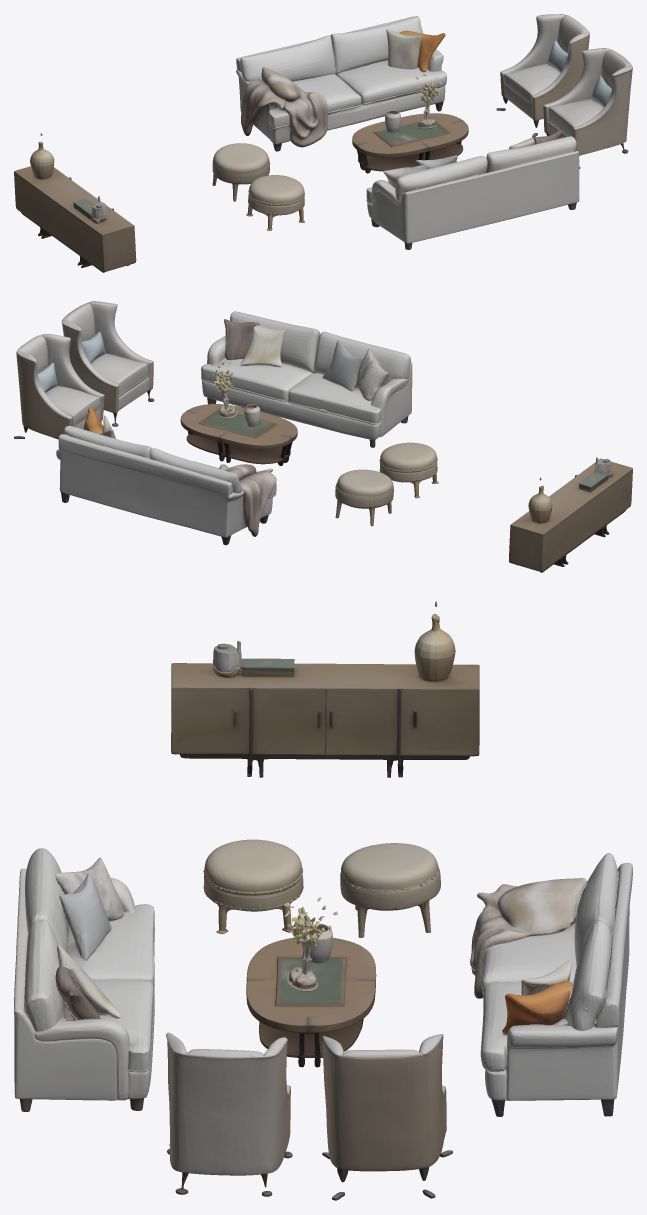
File: ours.glb
3 renders of one model, top to bottom at view 1: azimuth 30°, elevation 25°; view 2: azimuth 150°, elevation 25°; view 3: azimuth 270°, elevation 25°, orthographic. The views are drawn at different scales.
Visible parts, largest first — view 1: world; view 2: world; view 3: world.
Boxes of the visible parts, x1,y1,x2,y2 form: world: (14,14,632,272); world: (14,301,632,572); world: (14,601,632,1200).
Size of the model in its own units: 6.88 by 1.14 by 3.93.
